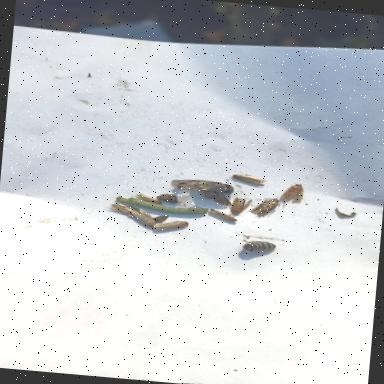pbw: (247, 193, 285, 220), (103, 200, 143, 220), (153, 216, 191, 235), (278, 180, 308, 204), (127, 206, 158, 229), (230, 172, 269, 188), (229, 195, 255, 218), (132, 190, 166, 207), (208, 208, 240, 222)
